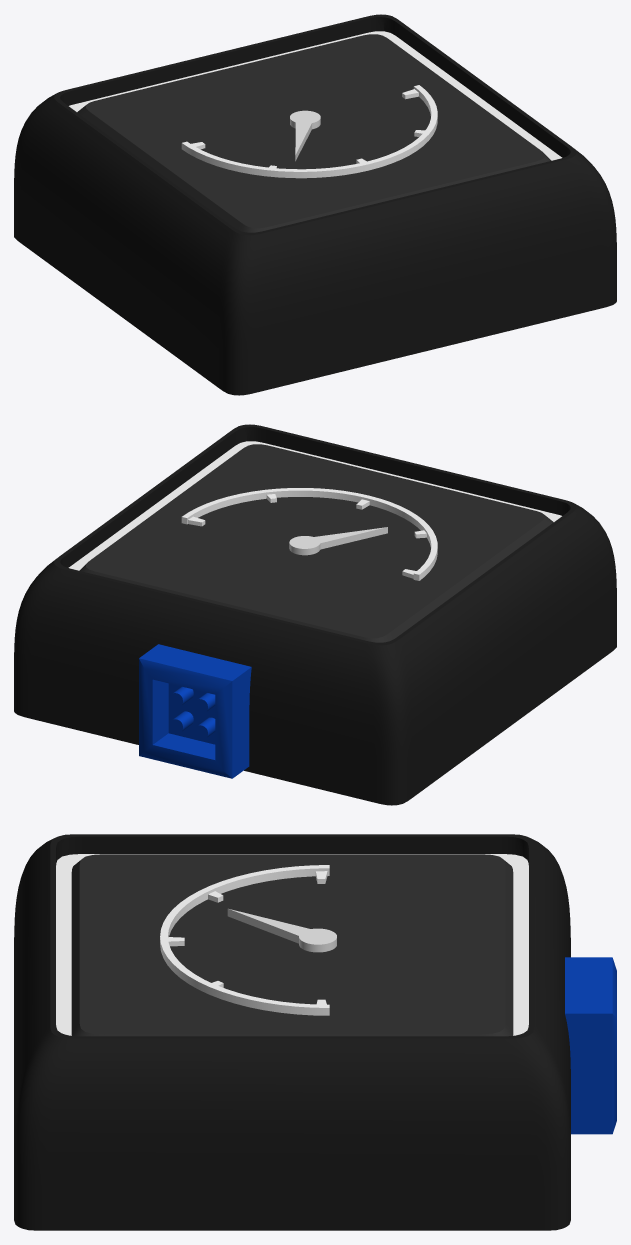
Rendered from SpeedSensor.gltf.
The picture shows the model from 3 angles, top to bottom: view 1: azimuth 30°, elevation 25°; view 2: azimuth 150°, elevation 25°; view 3: azimuth 270°, elevation 25°; orthographic projection. The views are drawn at different scales.
Parts seen in each view (by area): view 1: base; view 2: base; view 3: base.
Part boxes in pixels (box(x1,y1,x2,y2)): base: box(14, 14, 616, 395); base: box(14, 424, 616, 805); base: box(14, 834, 616, 1230).
Bounding box in the file's own units: 0.25 × 0.0875 × 0.2706.
